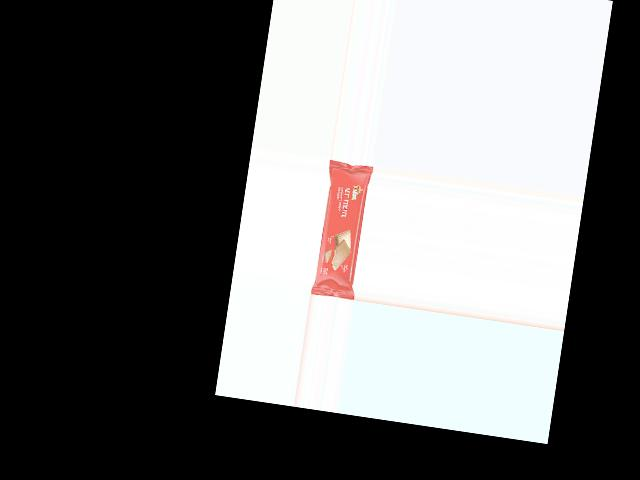chocolate: (309, 163, 372, 298)
